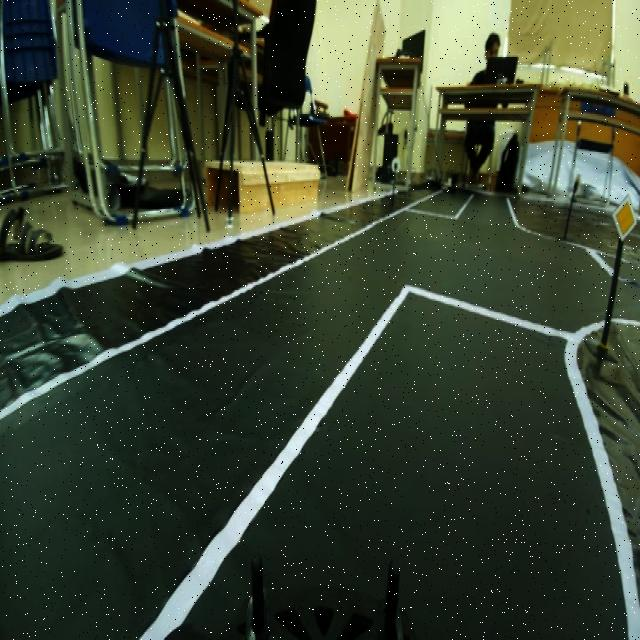priority: (611, 191, 638, 245)
